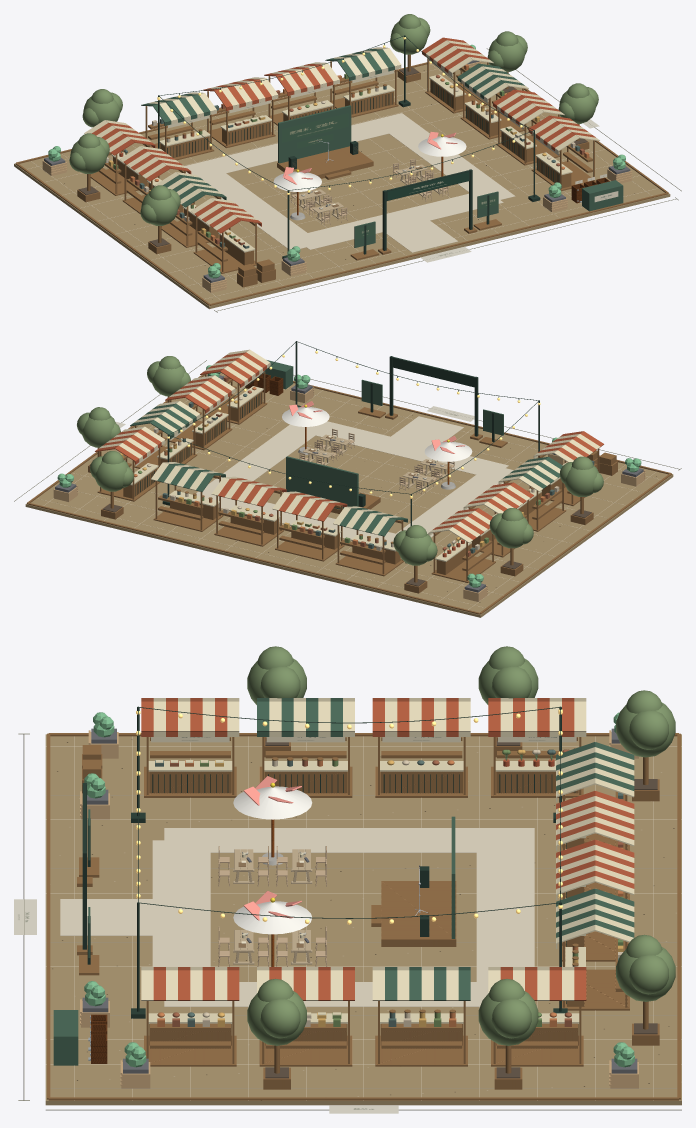
File: market.glb
The picture shows the model from 3 angles, top to bottom: view 1: azimuth 30°, elevation 25°; view 2: azimuth 150°, elevation 25°; view 3: azimuth 270°, elevation 25°; orthographic projection. The views are drawn at different scales.
Parts seen in each view (by area): view 1: Site_30x22m_1, Aisle_south-loop_5, Aisle_west-loop_2, Aisle_east-loop_3, Aisle_north-loop_4, StageBackdrop_825, cafe-parasol (×2), Stage_4_8x2_6_824, Aisle_entry_6, SiteEdge_36, Sign_826, Box_884 (+17 smaller); view 2: Site_30x22m_1, Aisle_south-loop_5, StageBackdrop_825, Aisle_east-loop_3, Aisle_west-loop_2, cafe-parasol (×2), Aisle_entry_6, SiteEdge_35, Aisle_north-loop_4, EntryHeader_814, TreeCrown_893, TreeCrown_900 (+20 smaller); view 3: Site_30x22m_1, Aisle_west-loop_2, Aisle_north-loop_4, Aisle_south-loop_5, cafe-parasol (×2), Stage_4_8x2_6_824, Aisle_entry_6, SiteEdge_34, Aisle_east-loop_3, SalesCounter_254, SalesCounter_131, StallDeck_372 (+31 smaller).
Part boxes in pixels (x1=…): Site_30x22m_1: x1=14, y1=61, x2=670, y2=309; Aisle_south-loop_5: x1=293, y1=189, x2=503, y2=249; Aisle_west-loop_2: x1=184, y1=164, x2=318, y2=249; Aisle_east-loop_3: x1=371, y1=113, x2=515, y2=199; Aisle_north-loop_4: x1=193, y1=117, x2=396, y2=176; StageBackdrop_825: x1=278, y1=105, x2=351, y2=163; cafe-parasol (×2): x1=273, y1=131, x2=466, y2=220; Stage_4_8x2_6_824: x1=277, y1=146, x2=373, y2=178; Aisle_entry_6: x1=381, y1=220, x2=457, y2=252; SiteEdge_36: x1=209, y1=192, x2=668, y2=305; Sign_826: x1=282, y1=113, x2=348, y2=142; Box_884: x1=582, y1=180, x2=623, y2=211; Site_30x22m_1: x1=25, y1=373, x2=673, y2=617; Aisle_south-loop_5: x1=300, y1=421, x2=508, y2=478; StageBackdrop_825: x1=286, y1=456, x2=358, y2=509; Aisle_east-loop_3: x1=196, y1=423, x2=328, y2=498; Aisle_west-loop_2: x1=386, y1=464, x2=513, y2=542; cafe-parasol (×2): x1=282, y1=401, x2=472, y2=489; Aisle_entry_6: x1=388, y1=416, x2=463, y2=447; SiteEdge_35: x1=27, y1=503, x2=479, y2=614; Aisle_north-loop_4: x1=211, y1=495, x2=395, y2=540; EntryHeader_814: x1=392, y1=357, x2=478, y2=387; TreeCrown_893: x1=494, y1=516, x2=528, y2=548; TreeCrown_900: x1=564, y1=465, x2=598, y2=496; Site_30x22m_1: x1=45, y1=734, x2=681, y2=1105; Aisle_west-loop_2: x1=164, y1=828, x2=534, y2=852; Aisle_north-loop_4: x1=476, y1=840, x2=534, y2=994; Aisle_south-loop_5: x1=152, y1=840, x2=210, y2=966; cafe-parasol (×2): x1=233, y1=776, x2=312, y2=966; Stage_4_8x2_6_824: x1=381, y1=881, x2=456, y2=946; Aisle_entry_6: x1=60, y1=899, x2=152, y2=935; SiteEdge_34: x1=48, y1=1097, x2=678, y2=1100; Aisle_east-loop_3: x1=164, y1=982, x2=487, y2=1006; SalesCounter_254: x1=149, y1=771, x2=231, y2=793; SalesCounter_131: x1=380, y1=771, x2=462, y2=793; StallDeck_372: x1=375, y1=1035, x2=467, y2=1066.
Size of the model in its own units: 31.09 by 4.47 by 23.1.
59 materials, 28 textured.
